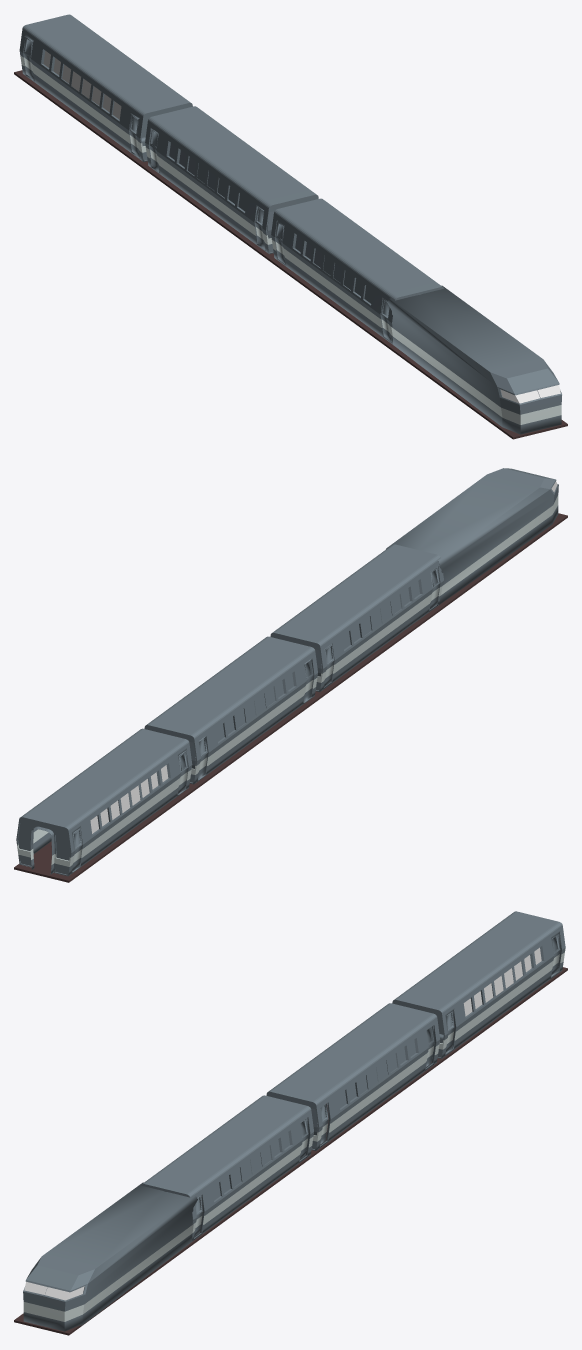
File: Train substance.fbx
The picture shows the model from 3 angles, top to bottom: view 1: azimuth 30°, elevation 25°; view 2: azimuth 150°, elevation 25°; view 3: azimuth 330°, elevation 25°; orthographic projection.
Parts seen in each view (by area): view 1: Cube.029; view 2: Cube.029; view 3: Cube.029.
Part boxes in pixels (x1,y1,x2,y2): Cube.029: [14, 14, 567, 439]; Cube.029: [14, 468, 567, 882]; Cube.029: [14, 911, 567, 1335].
Size of the model in its own units: 439 by 365 by 6530.
